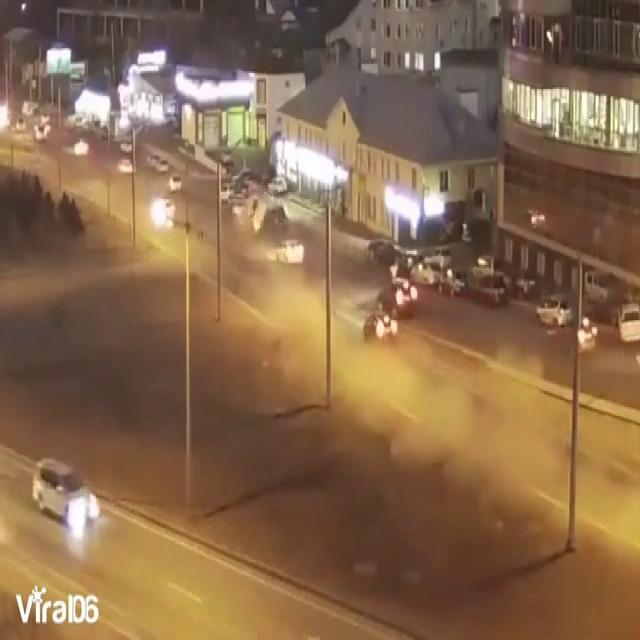severe: (242, 189, 306, 266)
